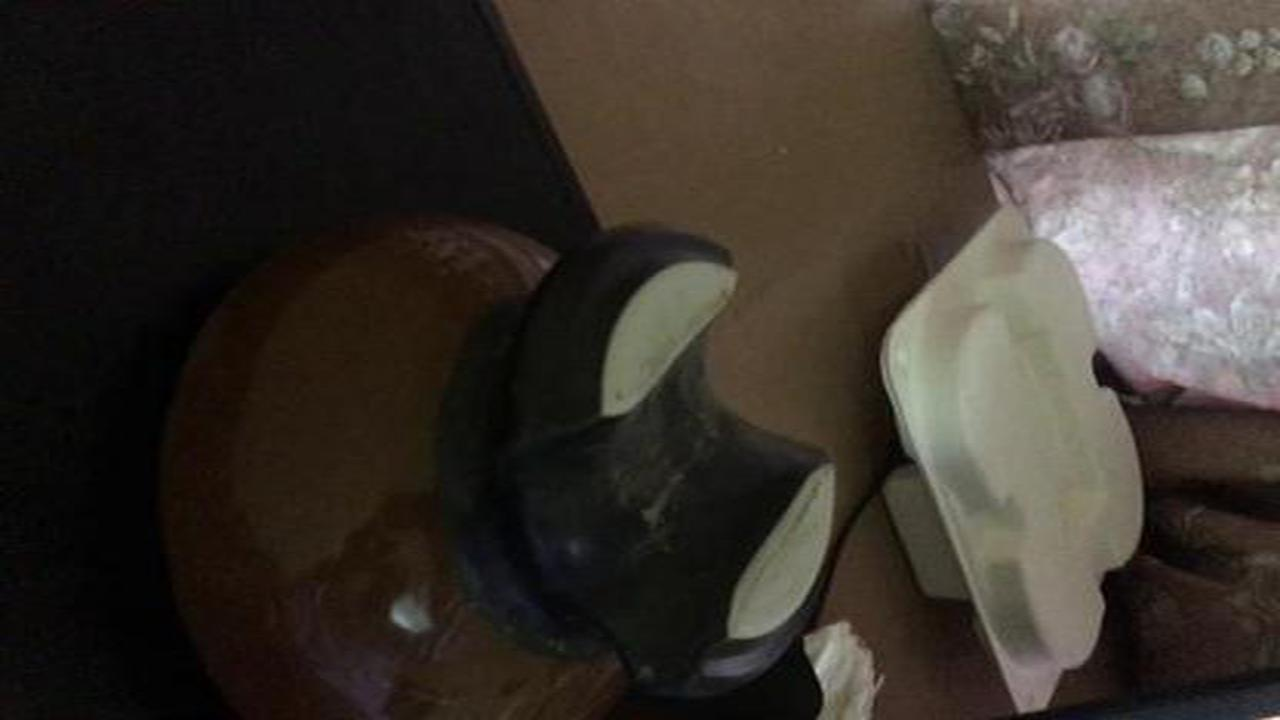insulator_pin: (132, 198, 859, 719)
